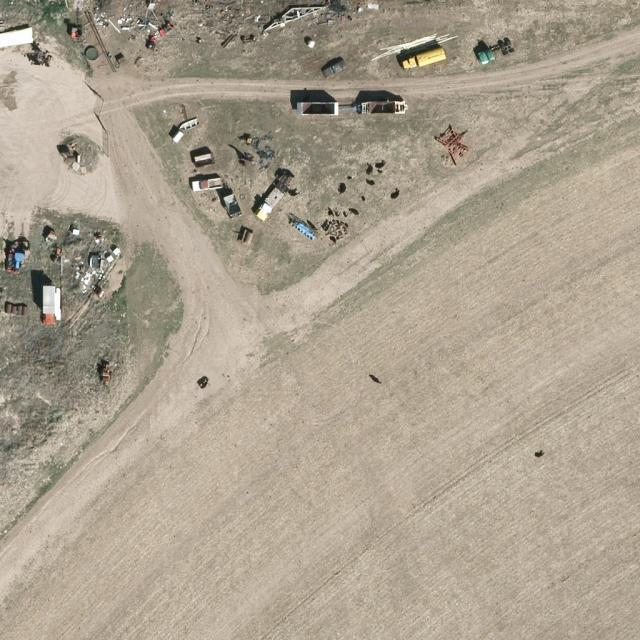vehicle: (253, 186, 288, 222), (399, 48, 447, 74), (476, 40, 516, 64), (41, 286, 57, 327), (323, 59, 348, 79), (190, 178, 223, 193)
